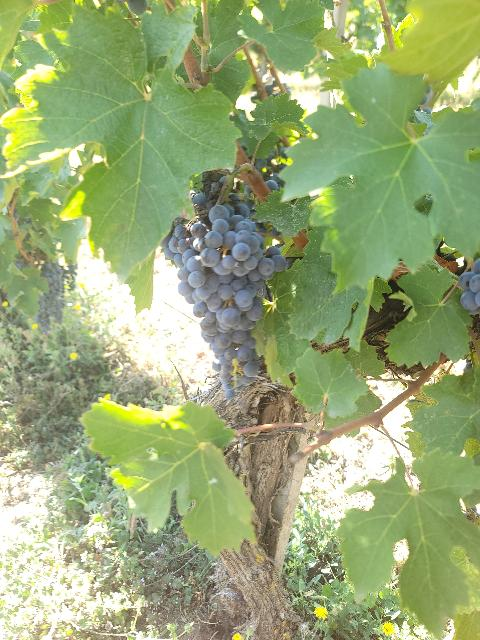grapes: (165, 204, 288, 399)
